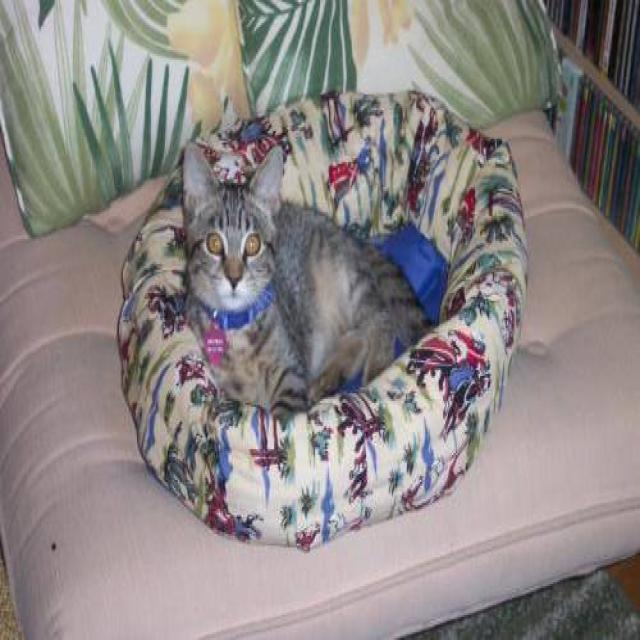cat: (179, 139, 433, 420)
